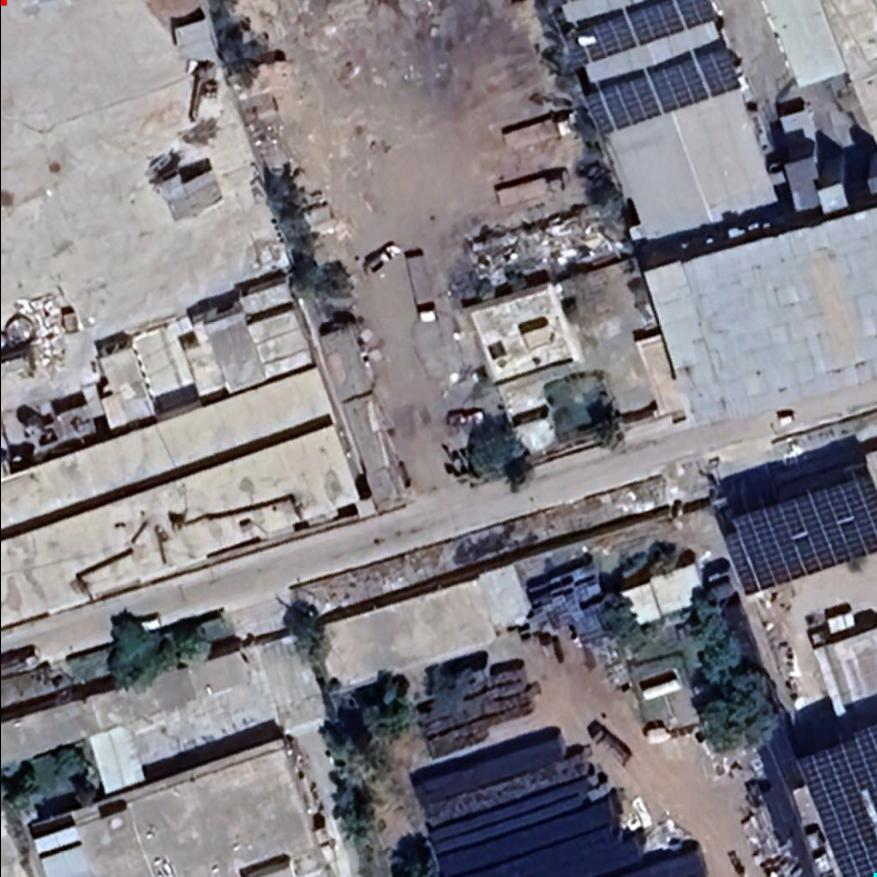Solarpanel: (710, 471, 875, 606), (576, 37, 744, 141), (785, 725, 875, 876), (565, 0, 725, 66)
